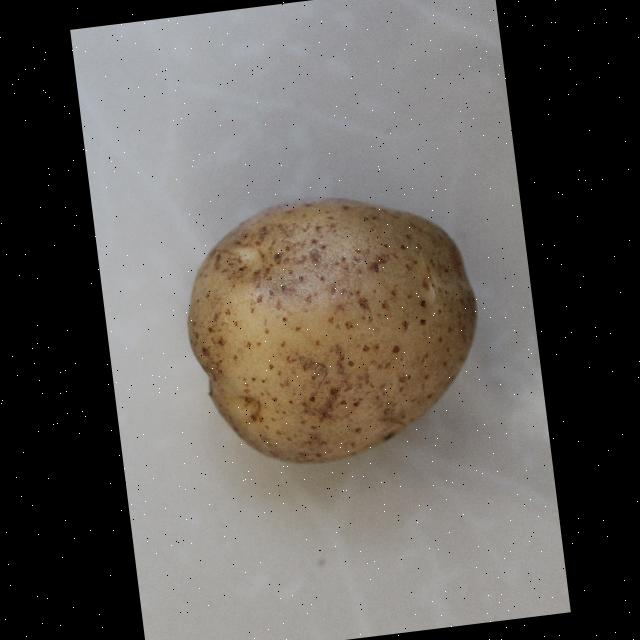Diseased-fungal potato: (173, 180, 496, 497)
